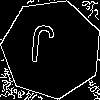J: (26, 24, 56, 73)
